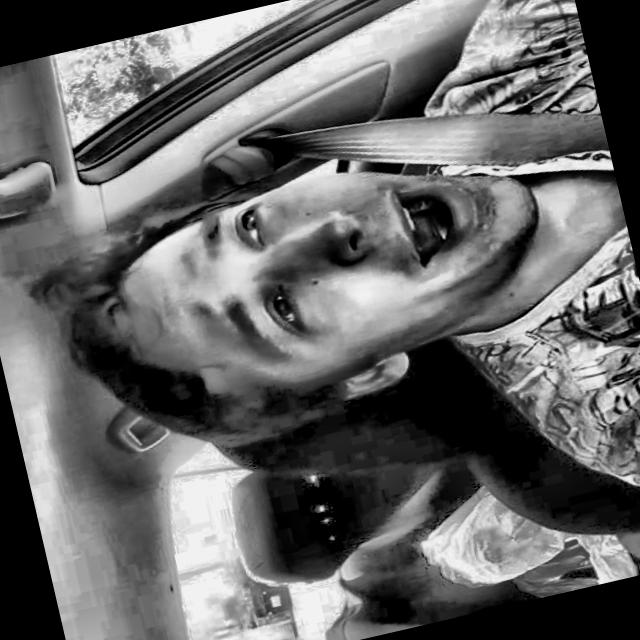open_eyes: (250, 278, 316, 350), (228, 196, 284, 262)
open_mouth: (366, 171, 484, 279)
